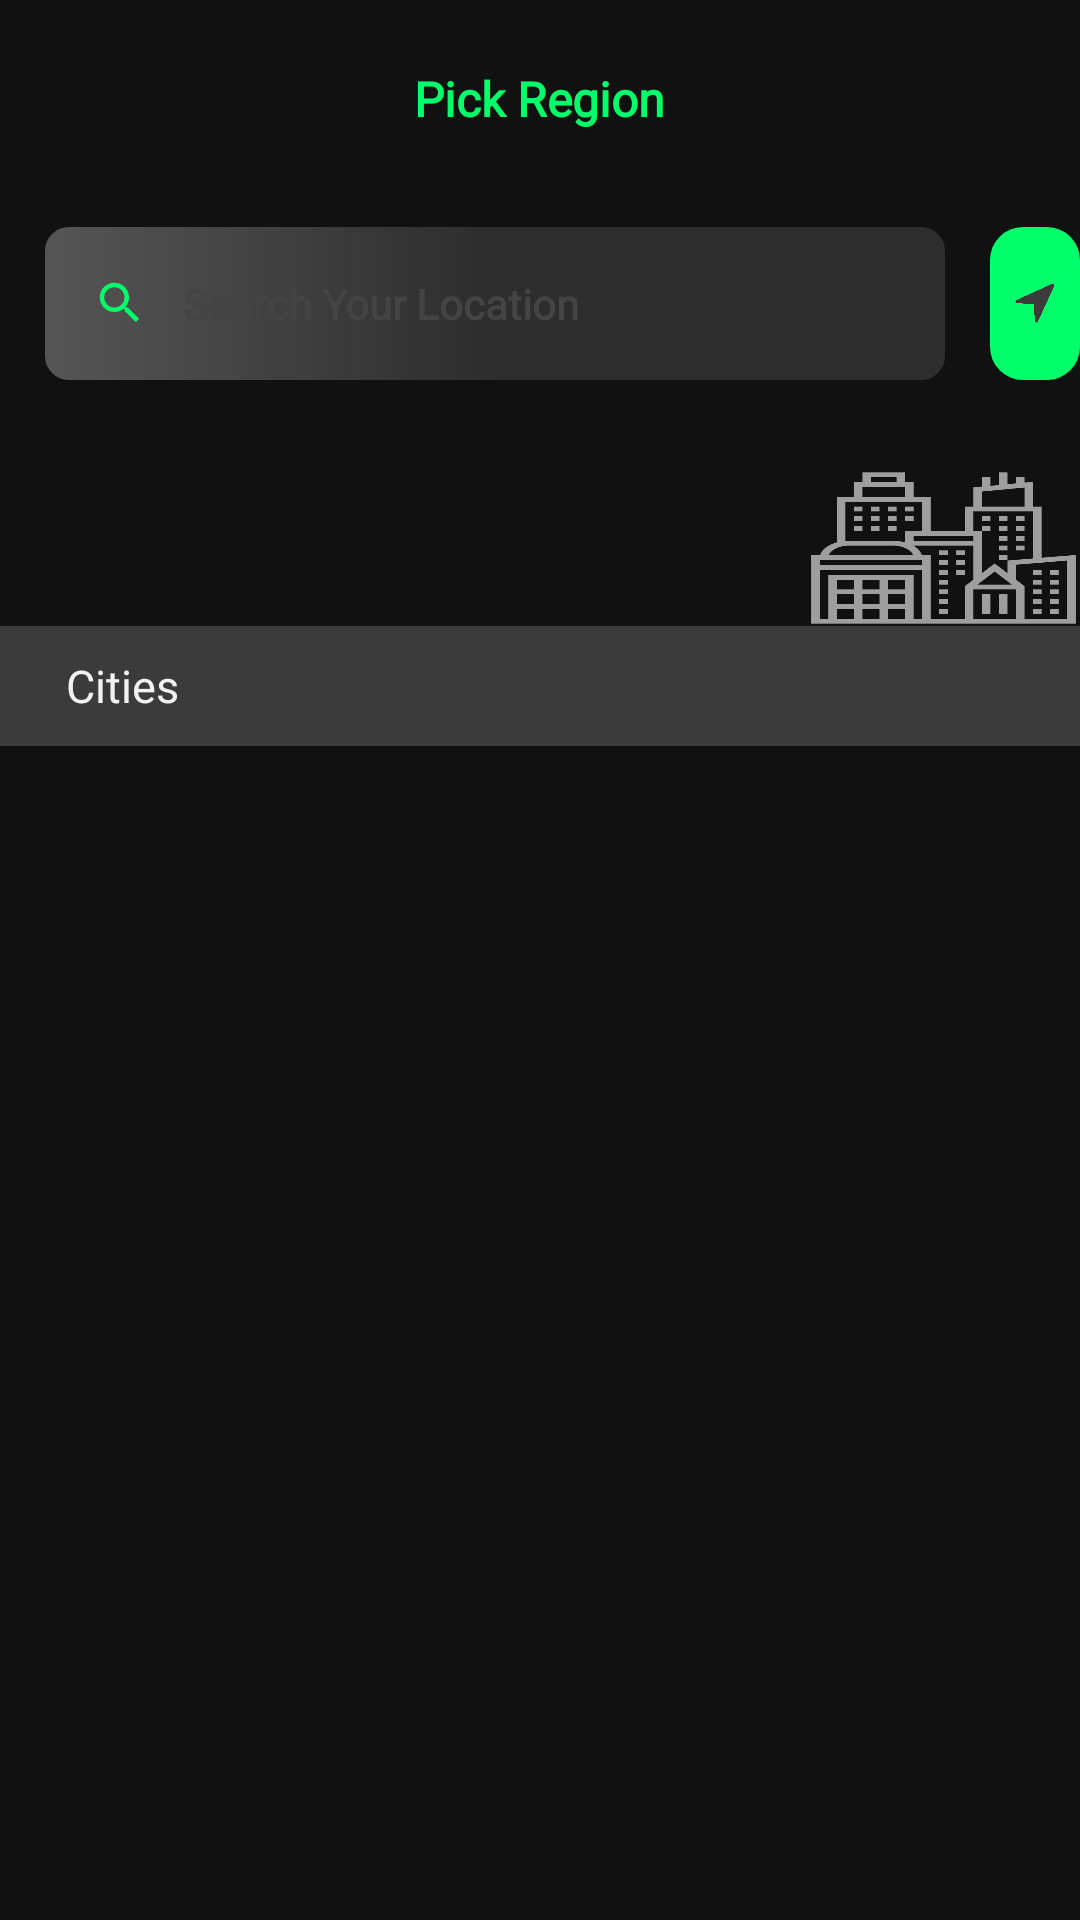

Named icons in this screenshot (1080x1920) and their centers, [x,y]:
buildings: [943,548]
navigation: [1034,303]
